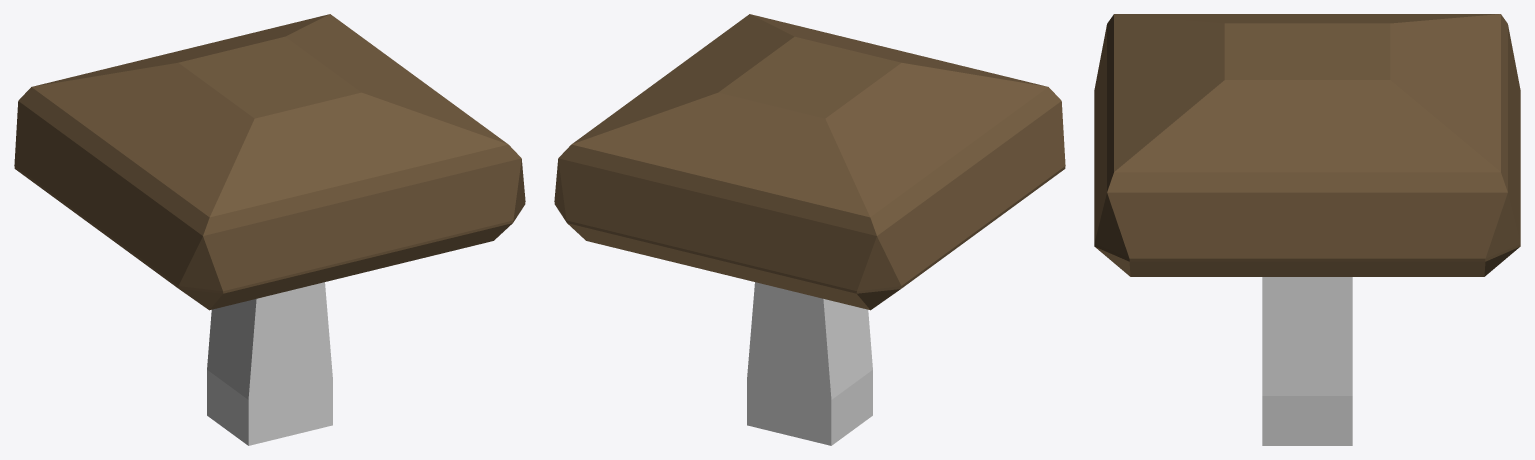
File: BrownShroom.fbx
The picture shows the model from 3 angles, left to right: view 1: azimuth 30°, elevation 25°; view 2: azimuth 150°, elevation 25°; view 3: azimuth 270°, elevation 25°; orthographic projection. The views are drawn at different scales.
Visible parts, largest first — view 1: MushroomBrown; view 2: MushroomBrown; view 3: MushroomBrown.
Part boxes in pixels (x1,y1,x2,y2): MushroomBrown: (14,14,525,445); MushroomBrown: (554,14,1065,445); MushroomBrown: (1094,14,1520,445).
Bounding box in the file's own units: 1.48 × 1.4 × 1.45.
